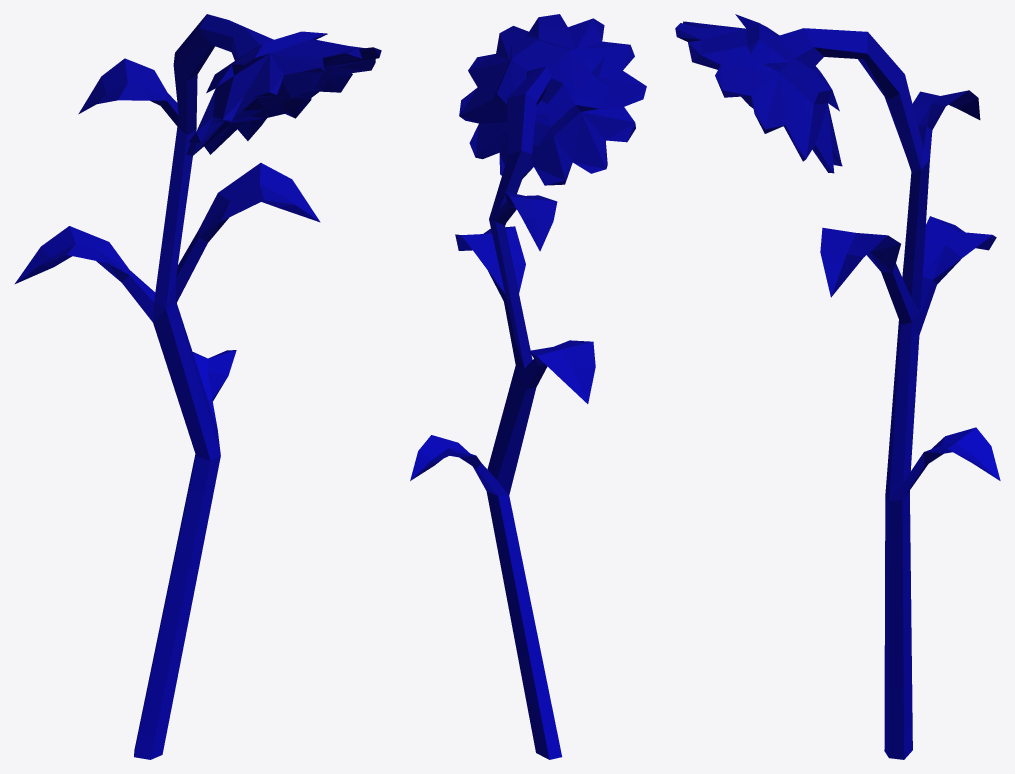
Rendered from SM_Plant_Sunflower_01.glb.
3 views of the same model, side by side, from view 1: azimuth 30°, elevation 25°; view 2: azimuth 150°, elevation 25°; view 3: azimuth 270°, elevation 25° (orthographic). The views are drawn at different scales.
Visible parts, largest first — view 1: SM_Plant_Sunflower_01; view 2: SM_Plant_Sunflower_01; view 3: SM_Plant_Sunflower_01.
Part boxes in pixels (x1,y1,x2,y2): SM_Plant_Sunflower_01: (15,14,381,759); SM_Plant_Sunflower_01: (410,14,646,759); SM_Plant_Sunflower_01: (675,14,1000,759).
Size of the model in its own units: 50.13 by 144 by 56.29.
